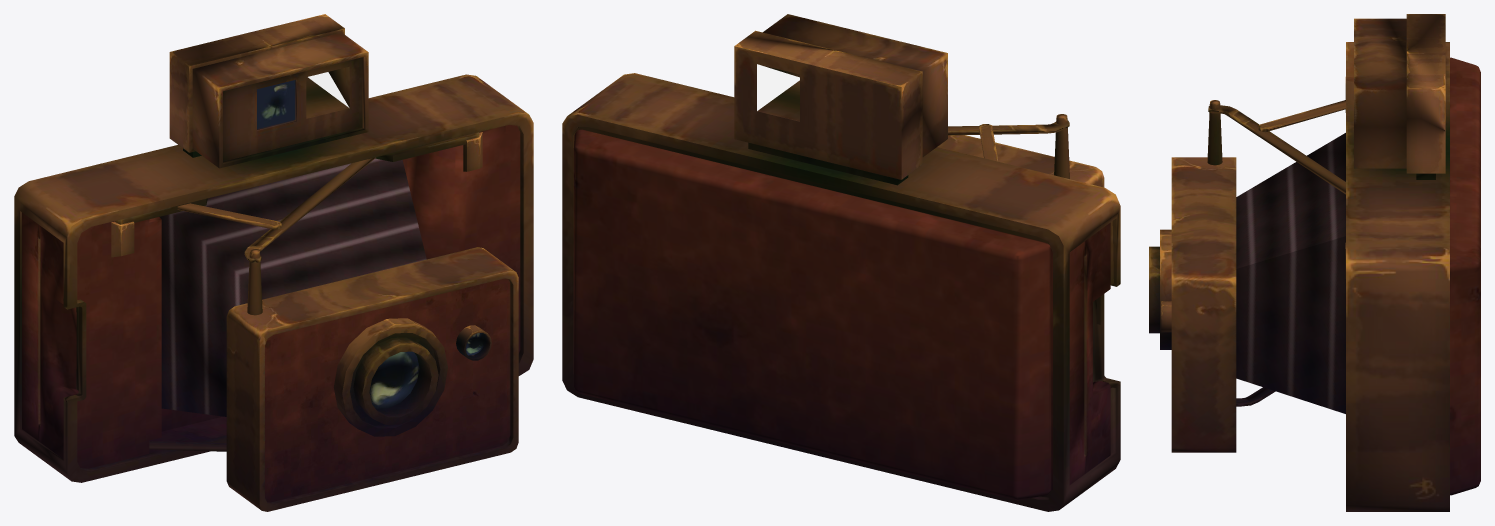
Rendered from camarafoto.glb.
The picture shows the model from 3 angles, left to right: view 1: azimuth 30°, elevation 25°; view 2: azimuth 150°, elevation 25°; view 3: azimuth 270°, elevation 25°; orthographic projection. The views are drawn at different scales.
Parts seen in each view (by area): view 1: pPlane6_MM_camera_0; view 2: pPlane6_MM_camera_0; view 3: pPlane6_MM_camera_0.
Part boxes in pixels (<box>): pPlane6_MM_camera_0: <box>14,14,533,511</box>; pPlane6_MM_camera_0: <box>562,14,1120,511</box>; pPlane6_MM_camera_0: <box>1149,14,1480,511</box>.
Bounding box in the file's own units: 3 × 2.21 × 1.88.
2 materials, 1 textured.
